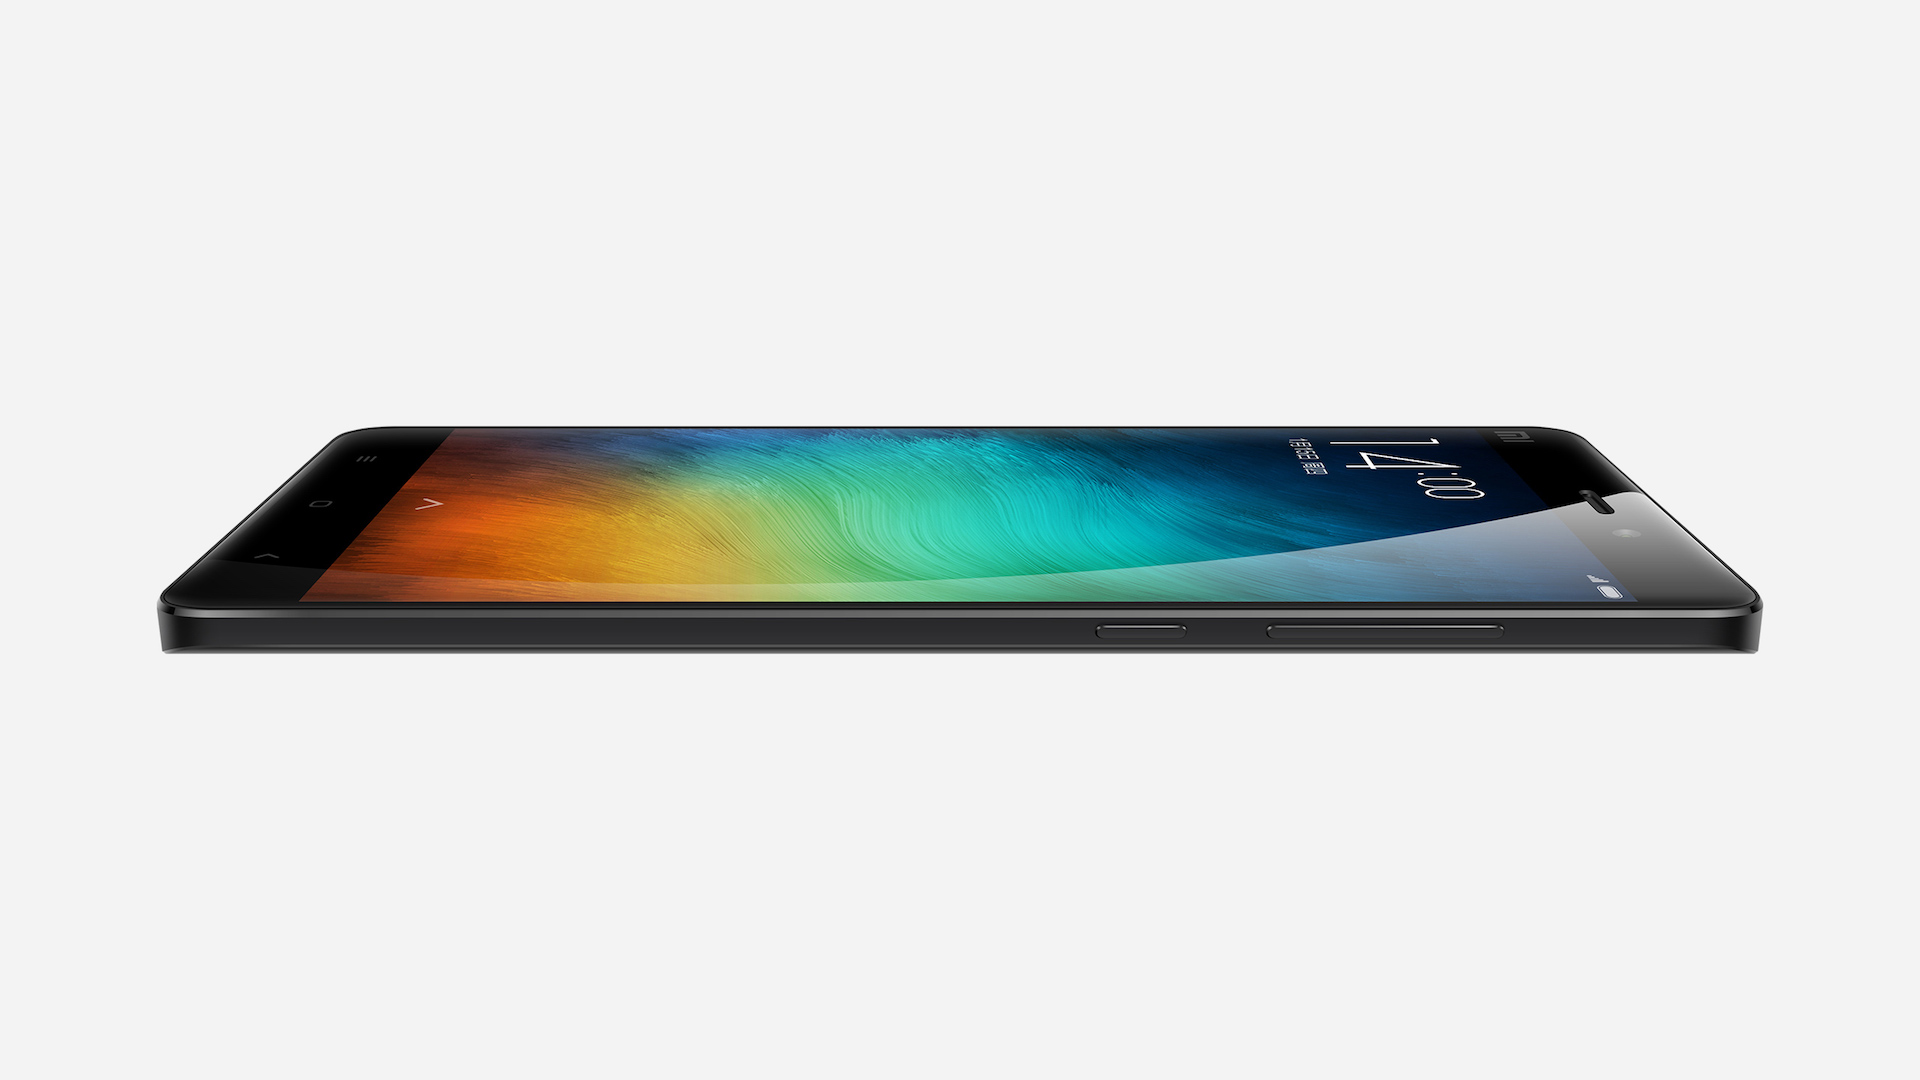smartphone: (152, 422, 1764, 658)
